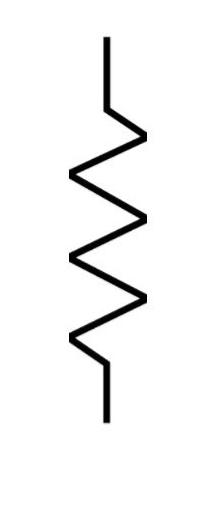resistor: (46, 62, 156, 399)
